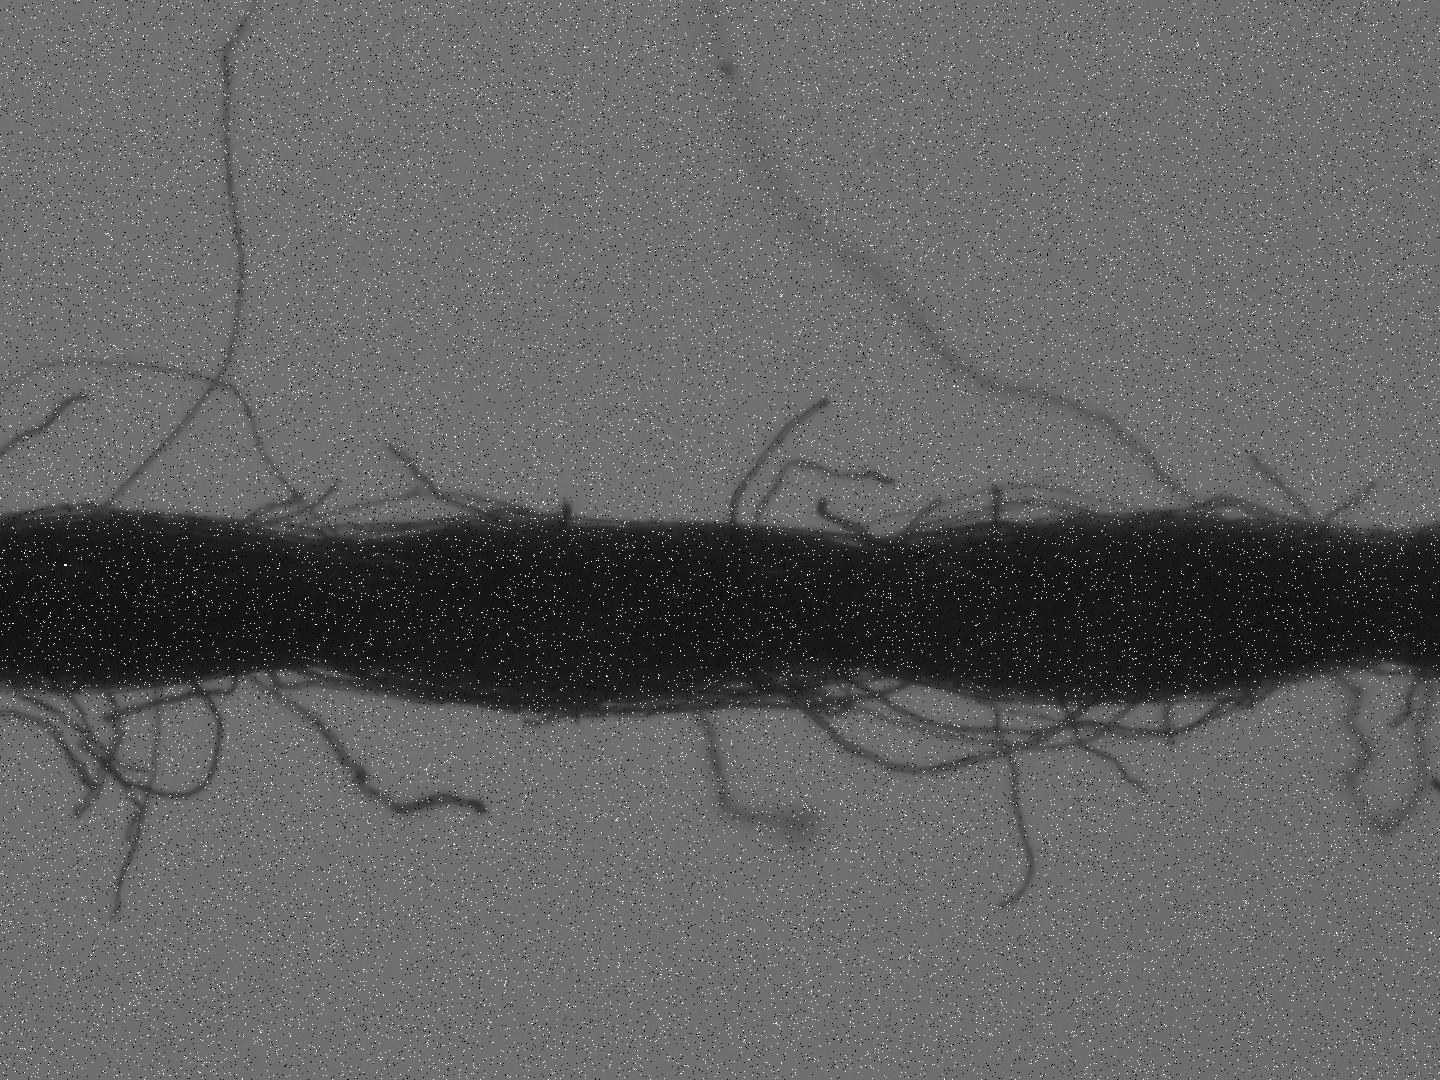loop_fiber: (737, 657, 1106, 778), (1304, 650, 1437, 838), (68, 667, 228, 808), (280, 484, 551, 556), (836, 675, 1098, 741), (1048, 669, 1274, 743), (1128, 492, 1324, 533)
protruding_fiber: (243, 677, 480, 817), (722, 394, 837, 532), (986, 691, 1043, 921)
